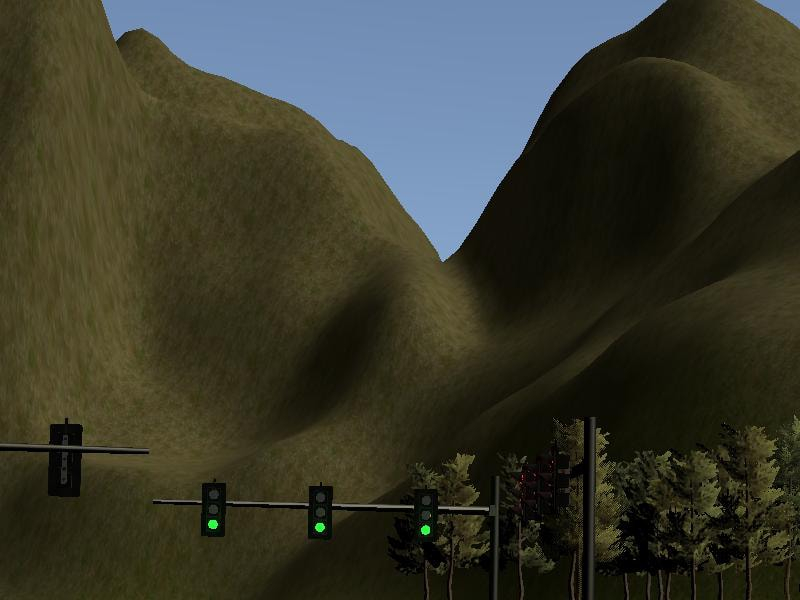green: (202, 483, 226, 536), (309, 487, 332, 538), (413, 489, 436, 540)
